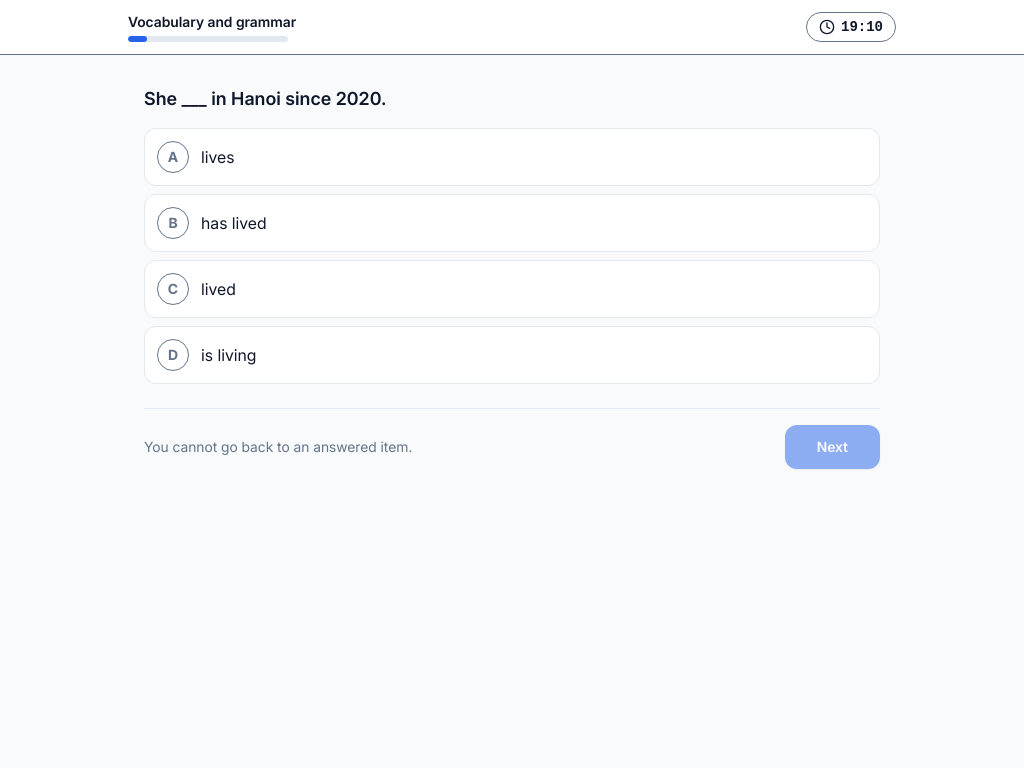
Scenario: work order 13 screens › PlacementPage › answers the current item with a key and shows the result that comes back
The width and height of the screenshot is (1024, 768).
expect the text "She ___ in Hanoi since 2020." is shown: met, box x1=144 y1=87 x2=386 y2=112
expect the button "Next" is disabled: met, box x1=785 y1=425 x2=880 y2=469
What coordinates should you click on to do the following:
click the button "B has lived"
I would click on:
 (173, 223)
Its box is x1=144 y1=194 x2=880 y2=252.
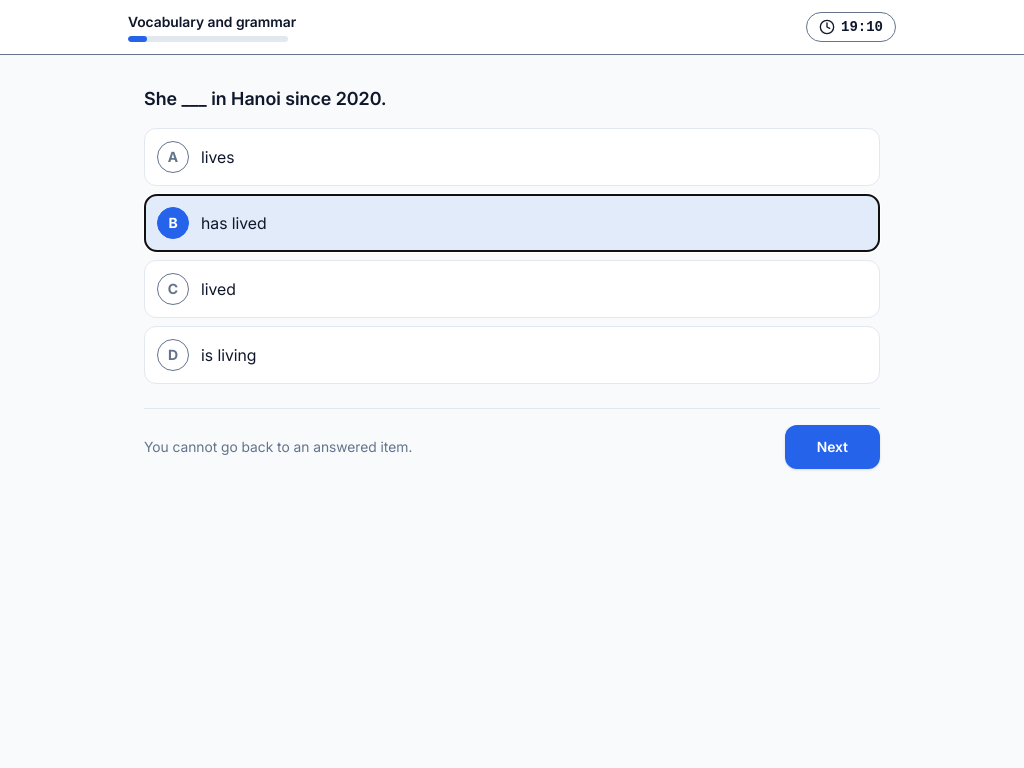
What coordinates should you click on to do the following:
click the button "Next"
I would click on:
 (832, 447)
Its box is x1=785 y1=425 x2=880 y2=469.
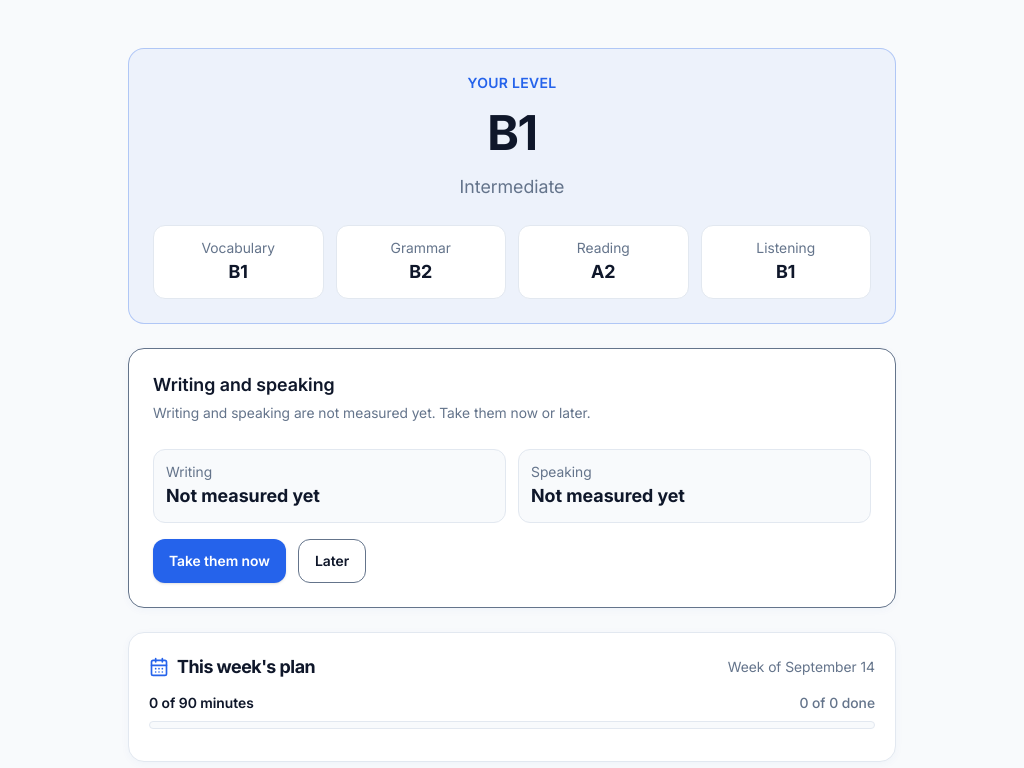
expect the text "Your level" is shown: met, box x1=468 y1=74 x2=556 y2=91
expect the heading "B1" is shown: met, box x1=487 y1=103 x2=537 y2=162
